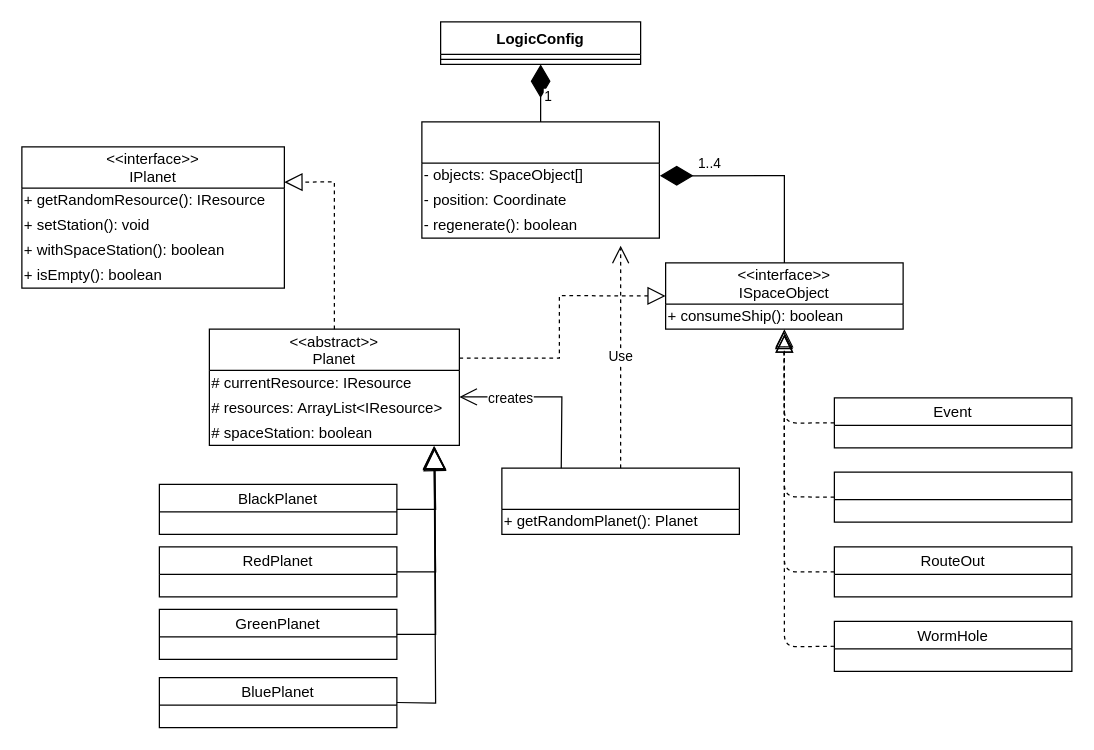
Image size: 1094x750. Some labels were removed from this diagram. Each missing label, with the box of its shape:
Entrance: (833, 471, 1072, 522)
PlanetFactory: (501, 467, 739, 534)
SpaceSector: (421, 121, 659, 238)
